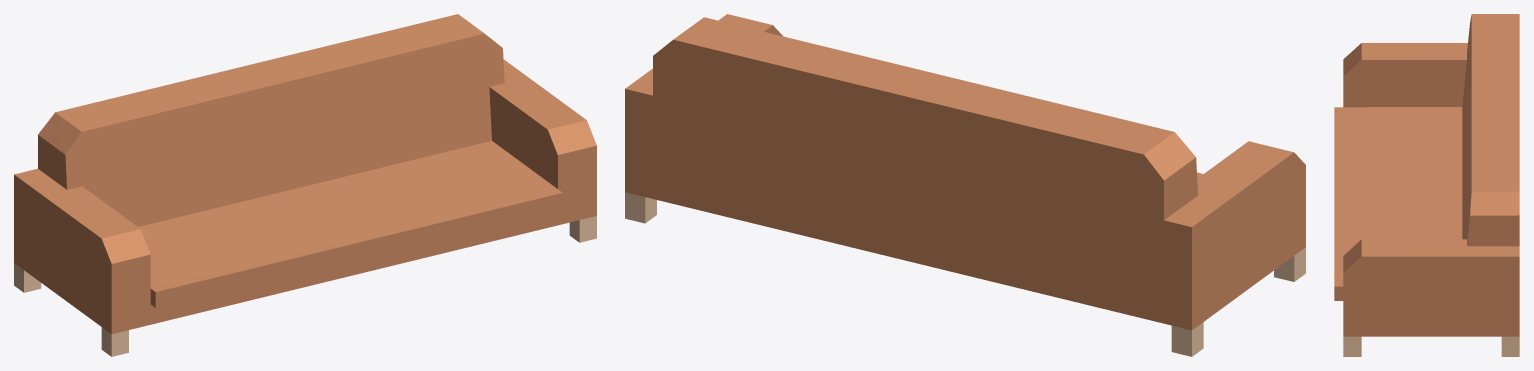
Rendered from loungeSofa.glb.
3 renders of one model, left to right at view 1: azimuth 30°, elevation 25°; view 2: azimuth 150°, elevation 25°; view 3: azimuth 270°, elevation 25°, orthographic. The views are drawn at different scales.
Visible parts, largest first — view 1: loungeSofa(Clone); view 2: loungeSofa(Clone); view 3: loungeSofa(Clone).
Boxes of the visible parts, x1,y1,x2,y2 form: loungeSofa(Clone): (14, 14, 596, 356); loungeSofa(Clone): (625, 14, 1305, 356); loungeSofa(Clone): (1334, 14, 1519, 356).
Bounding box in the file's own units: 1.12 × 0.36 × 0.41.
